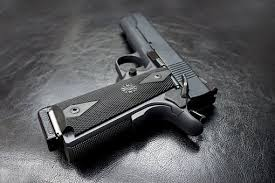gun: (37, 11, 218, 164)
